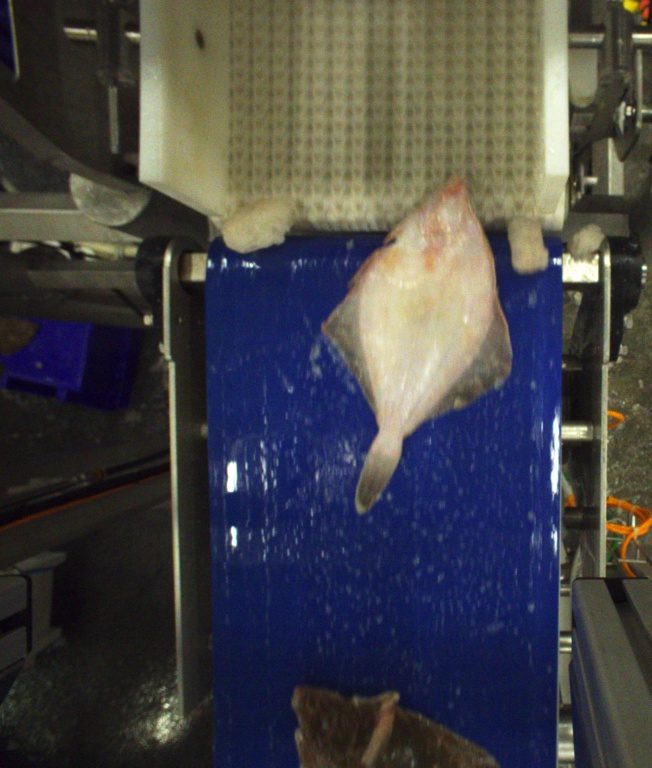PLE: (325, 174, 512, 514)
